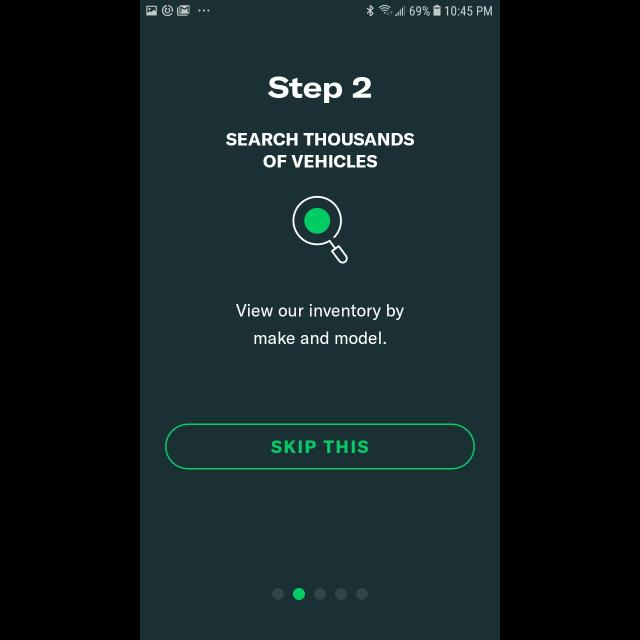icon: (292, 196, 348, 264)
pageindicator: (272, 588, 368, 600)
text: (236, 304, 404, 344), (226, 134, 414, 168), (268, 76, 372, 104)
textbutton: (165, 422, 475, 470)
uppertaskbar: (140, 1, 500, 22)
